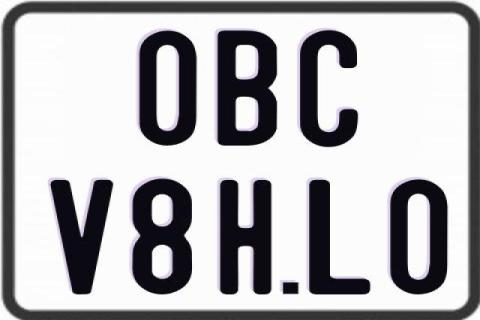0: (389, 177, 453, 293), (131, 178, 191, 298), (140, 29, 202, 145)
B: (216, 29, 281, 147)
C: (298, 28, 356, 149)
H: (218, 180, 270, 299)
L: (309, 180, 375, 299)
V: (50, 179, 116, 296)
